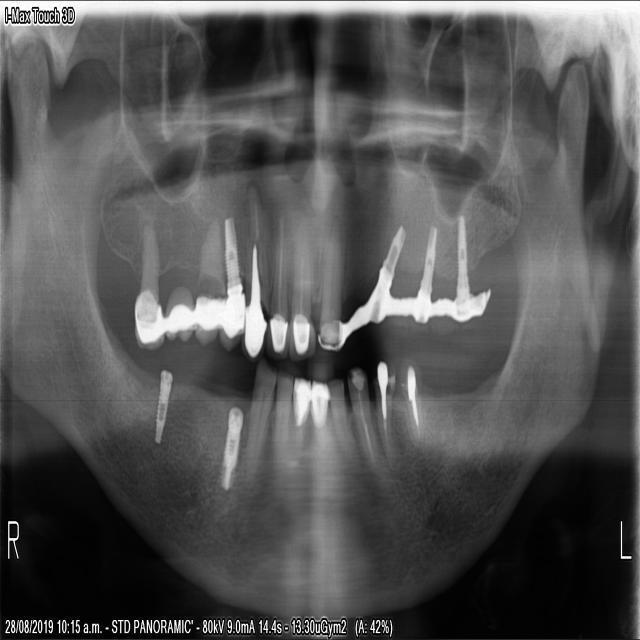LCD: (345, 360, 392, 480)
LID: (324, 367, 357, 468), (307, 371, 330, 478)
LIU: (313, 210, 348, 360)
LPMD: (371, 348, 400, 466), (396, 348, 424, 456)
RCD: (239, 354, 276, 495)
RCU: (240, 170, 268, 360)
RID: (286, 365, 312, 481), (269, 365, 293, 485)
RIU: (286, 194, 317, 370), (265, 190, 290, 360)
RMU: (129, 209, 165, 353)
RPMU: (192, 210, 226, 351)
